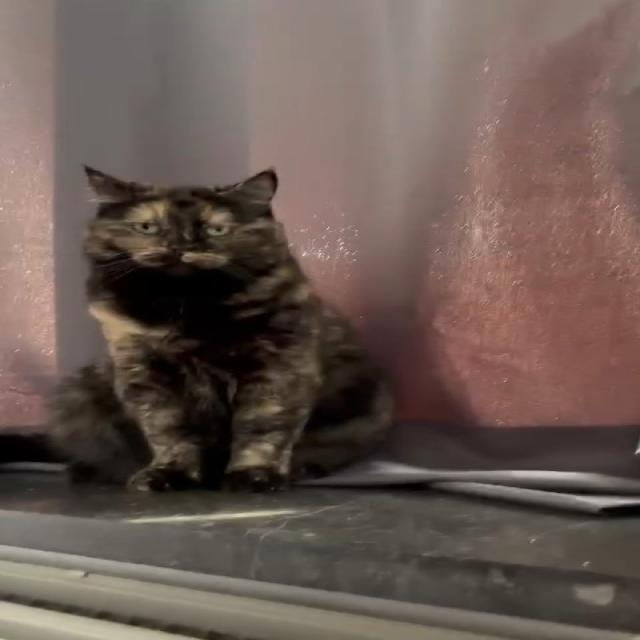authorized: (45, 163, 398, 493)
